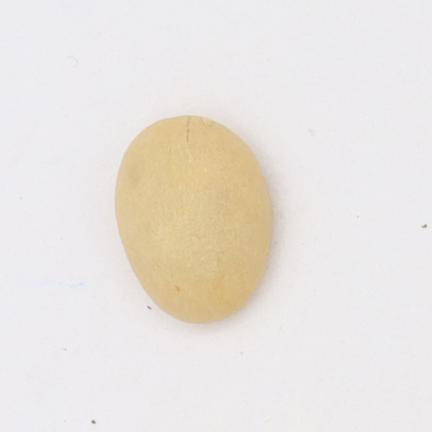parchment: (116, 116, 272, 322)
